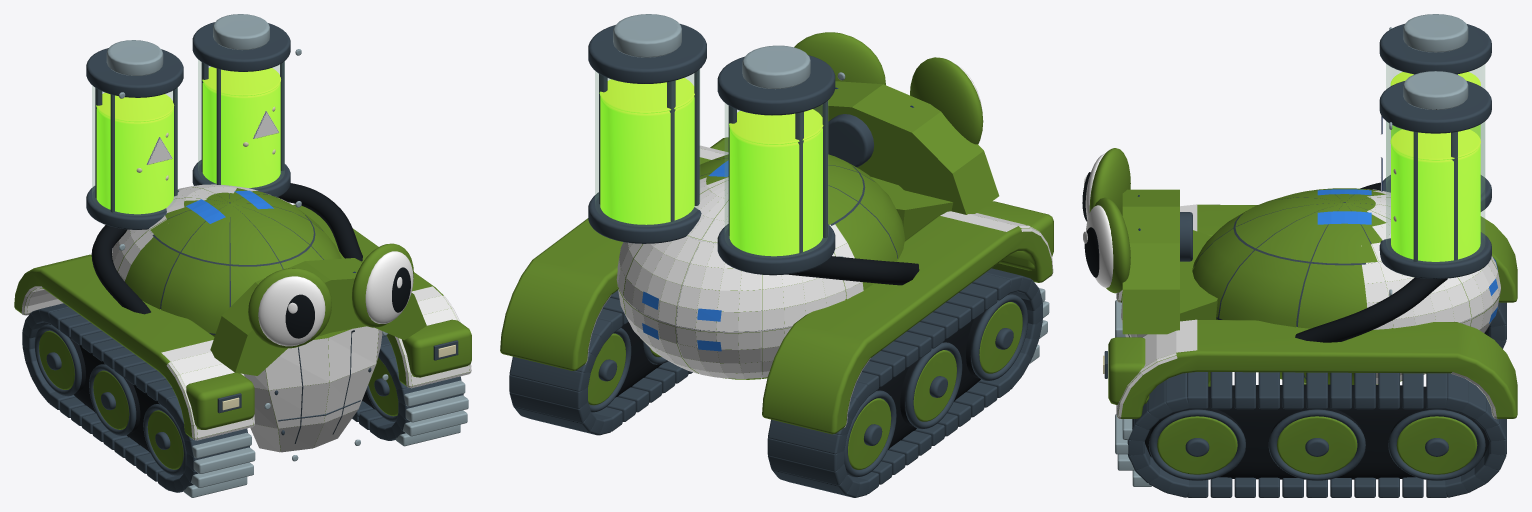
The model's file is Duke.fbx.
3 renders of one model, left to right at view 1: azimuth 30°, elevation 25°; view 2: azimuth 150°, elevation 25°; view 3: azimuth 270°, elevation 25°, orthographic. The views are drawn at different scales.
Visible parts, largest first — view 1: Frog low armored back, UV decal Faceted frog chin front, Transparent poison glass.001, Transparent poison glass, Wrapped curved fender, Faceted broad frog snout, Poison liquid inside.001, Poison liquid inside, UV decal Wrapped curved fender front, Bottle metal collar.003, Ivory sclera, Bottle metal collar.001 (+39 smaller); view 2: UV decal Frog low armored back back, Wrapped curved fender, Transparent poison glass.001, Transparent poison glass, Faceted broad frog snout, Wrapped curved fender.001, Poison liquid inside.001, Poison liquid inside, Frog low armored back, Bottle metal collar.003, Bottle metal collar.001, Eye socket (+36 smaller); view 3: Frog low armored back, Wrapped curved fender.001, Transparent poison glass.001, Poison liquid inside.001, Faceted broad frog snout, Inner track belt.001, UV decal Frog low armored back back, Bottle metal collar.003, Solid wheel face.009, Solid wheel face.007, Solid wheel face.011, Bottle metal collar.001 (+38 smaller).
Boxes of the visible parts, x1=… form: Frog low armored back: x1=116, y1=187, x2=341, y2=336; UV decal Faceted frog chin front: x1=243, y1=326, x2=382, y2=452; Transparent poison glass.001: x1=198, y1=60, x2=284, y2=188; Transparent poison glass: x1=92, y1=85, x2=177, y2=215; Wrapped curved fender: x1=14, y1=254, x2=253, y2=439; Faceted broad frog snout: x1=210, y1=258, x2=426, y2=375; Poison liquid inside.001: x1=202, y1=82, x2=280, y2=187; Poison liquid inside: x1=96, y1=108, x2=173, y2=214; UV decal Wrapped curved fender front: x1=21, y1=286, x2=254, y2=440; Bottle metal collar.003: x1=192, y1=22, x2=290, y2=71; Ivory sclera: x1=258, y1=276, x2=325, y2=346; Bottle metal collar.001: x1=86, y1=48, x2=183, y2=97; UV decal Frog low armored back back: x1=616, y1=177, x2=863, y2=378; Wrapped curved fender: x1=762, y1=213, x2=1052, y2=434; Transparent poison glass.001: x1=595, y1=69, x2=699, y2=226; Transparent poison glass: x1=725, y1=100, x2=828, y2=257; Faceted broad frog snout: x1=813, y1=81, x2=999, y2=214; Wrapped curved fender.001: x1=500, y1=157, x2=711, y2=370; Poison liquid inside.001: x1=600, y1=96, x2=694, y2=224; Poison liquid inside: x1=729, y1=128, x2=822, y2=256; Frog low armored back: x1=618, y1=154, x2=905, y2=379; Bottle metal collar.003: x1=588, y1=23, x2=706, y2=83; Bottle metal collar.001: x1=717, y1=55, x2=835, y2=115; Eye socket: x1=910, y1=57, x2=983, y2=144; Frog low armored back: x1=1192, y1=188, x2=1499, y2=384; Wrapped curved fender.001: x1=1117, y1=319, x2=1517, y2=418; Transparent poison glass.001: x1=1386, y1=121, x2=1484, y2=263; Poison liquid inside.001: x1=1391, y1=145, x2=1480, y2=261; Faceted broad frog snout: x1=1122, y1=189, x2=1179, y2=334; Inner track belt.001: x1=1145, y1=384, x2=1489, y2=479; UV decal Frog low armored back back: x1=1304, y1=189, x2=1500, y2=384; Bottle metal collar.003: x1=1379, y1=81, x2=1491, y2=133; Solid wheel face.009: x1=1277, y1=416, x2=1357, y2=474; Solid wheel face.007: x1=1396, y1=416, x2=1477, y2=474; Solid wheel face.011: x1=1157, y1=416, x2=1237, y2=474; Bottle metal collar.001: x1=1379, y1=24, x2=1491, y2=74.
Bounding box in the file's own units: 284 × 328 × 349.
